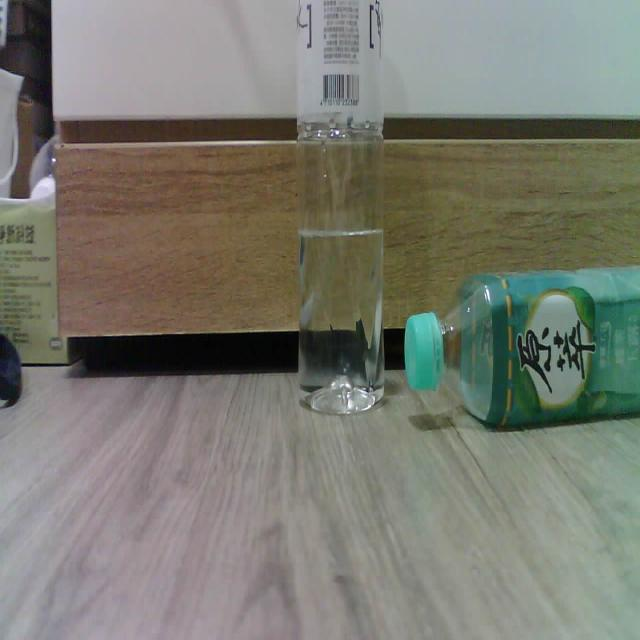bottle: (404, 267, 640, 428), (296, 0, 384, 413)
